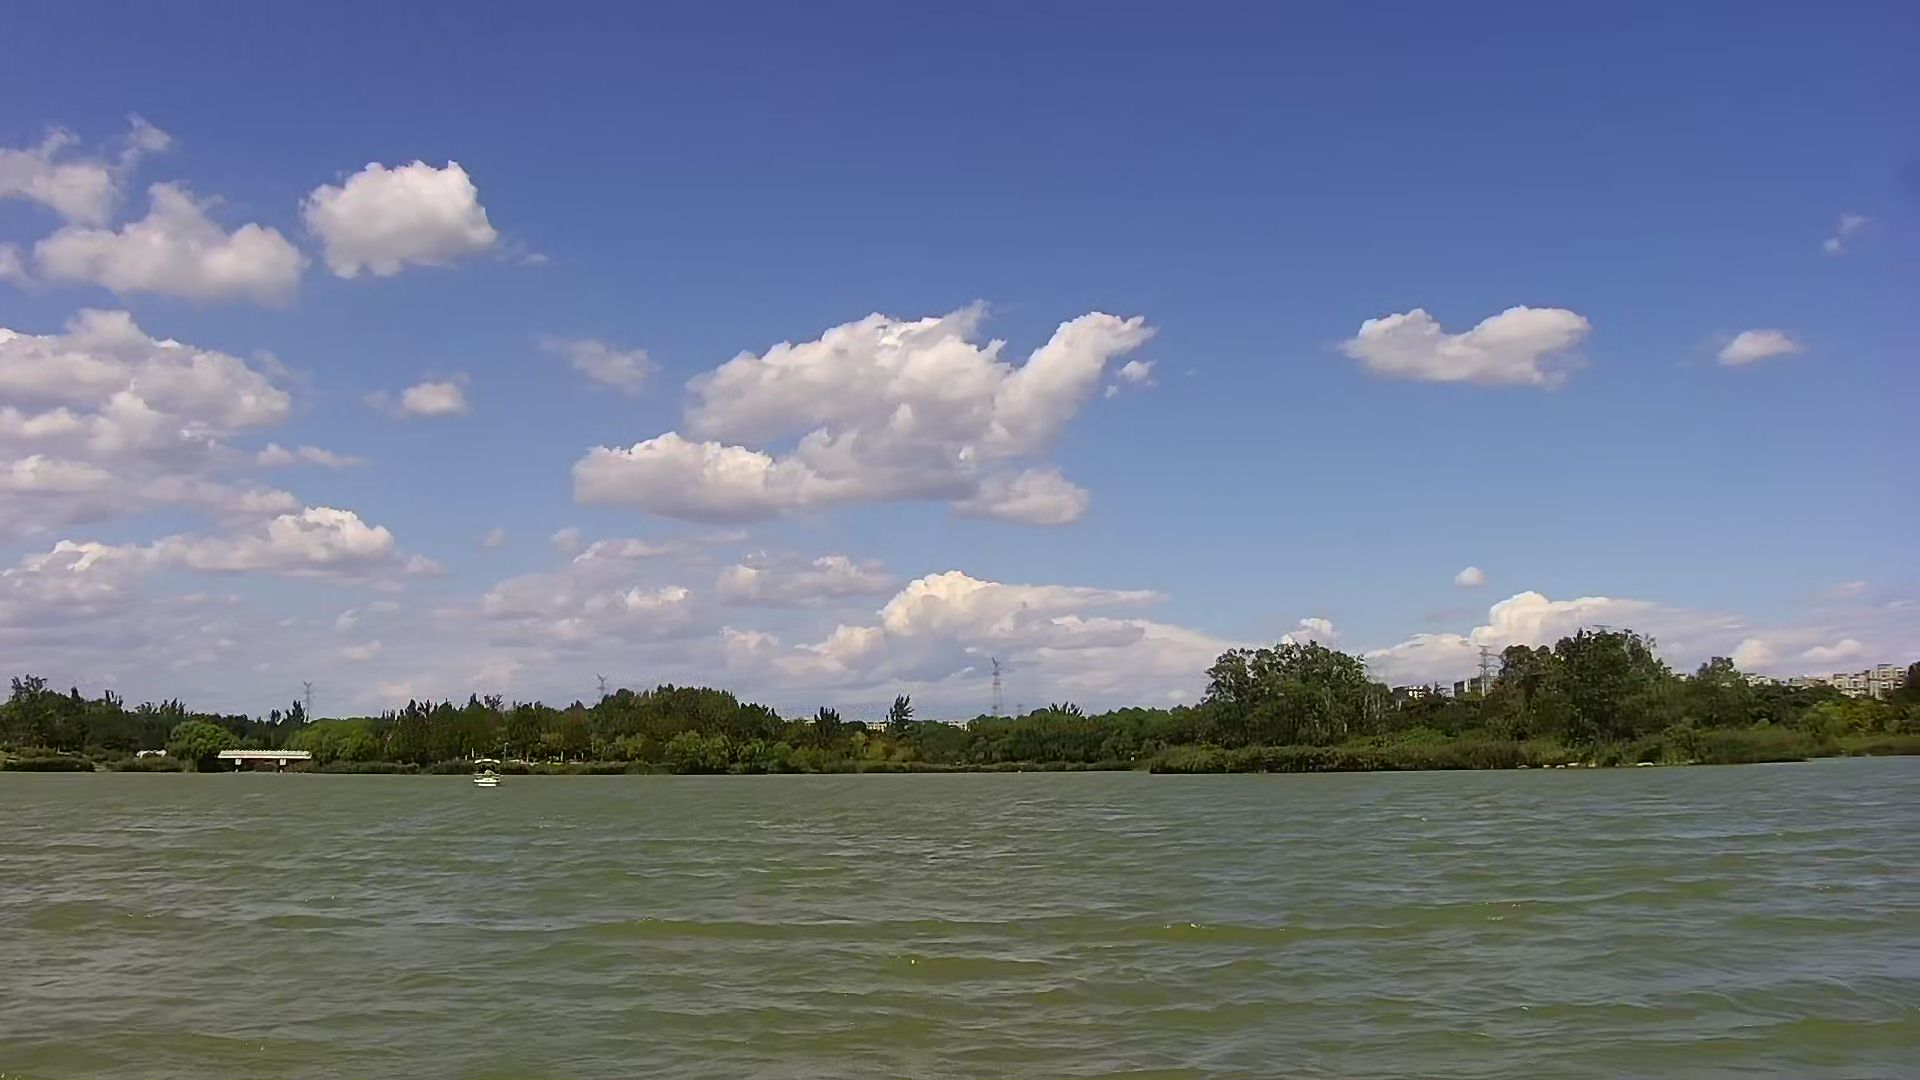boat: (467, 754, 516, 796)
bridge: (214, 742, 323, 775)
